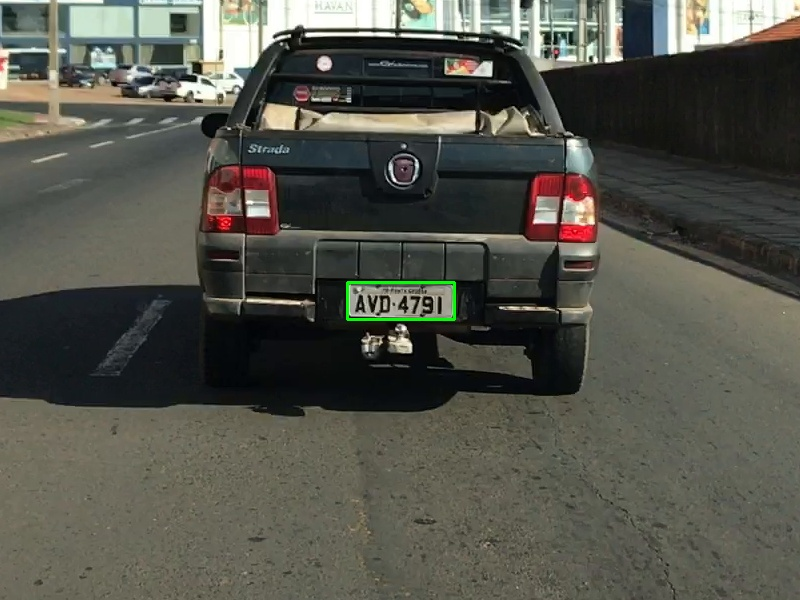placa: (347, 282, 454, 319)
